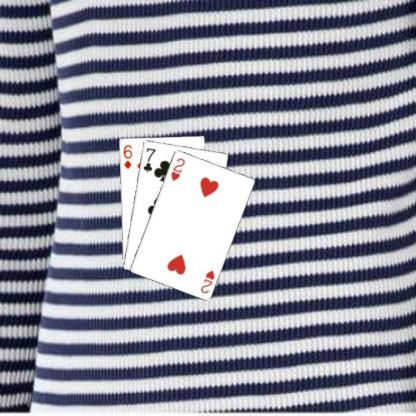2H: (168, 155, 186, 182), (198, 268, 216, 295)
6D: (121, 142, 133, 170)
7C: (141, 145, 157, 173)
